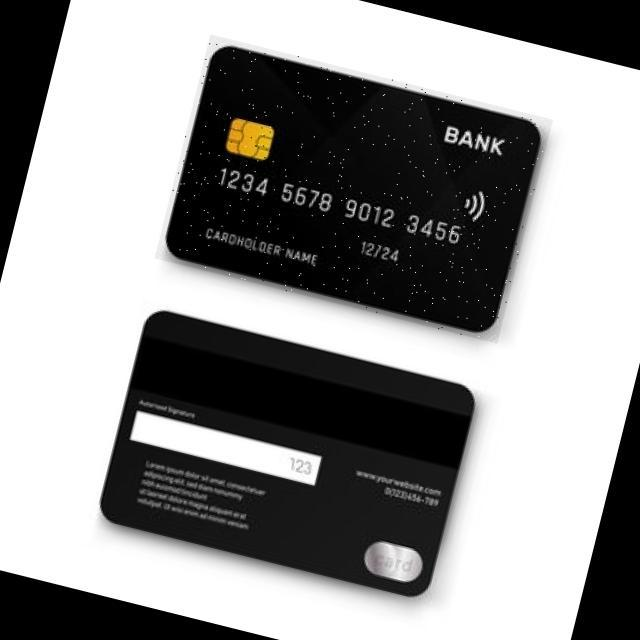payment_card: (160, 34, 551, 335), (98, 309, 476, 598)
